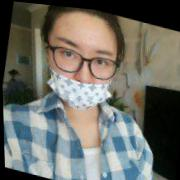WRONG: (40, 16, 123, 116)
